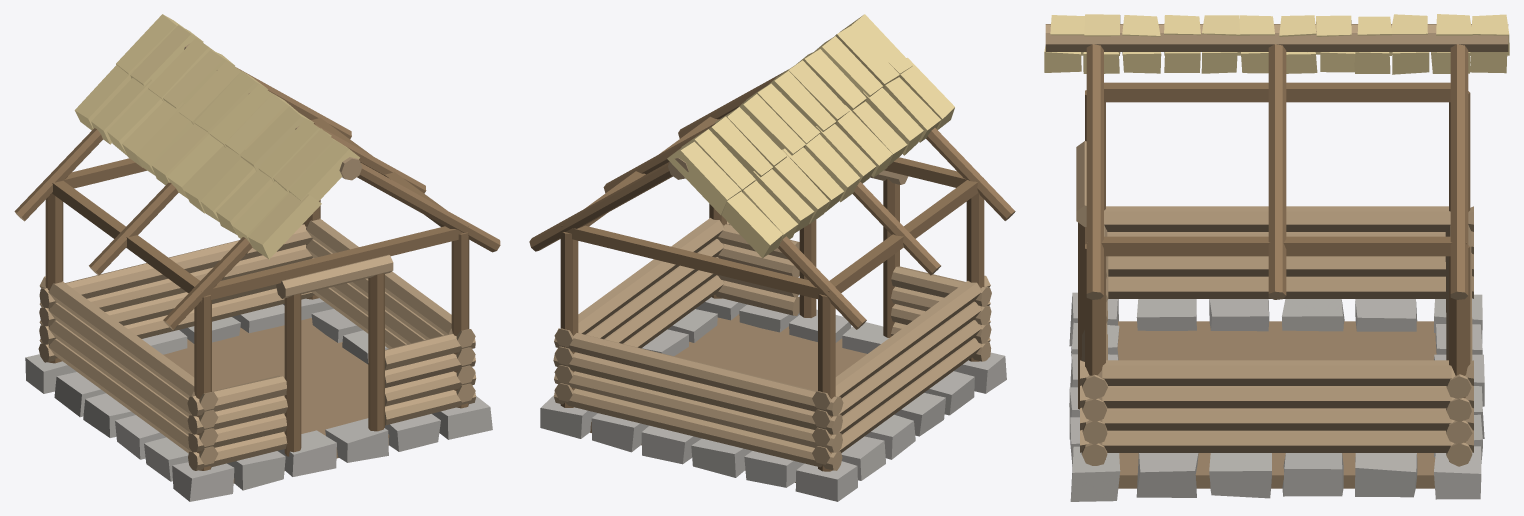
Rendered from building_granary_half.glb.
3 views of the same model, side by side, from view 1: azimuth 30°, elevation 25°; view 2: azimuth 150°, elevation 25°; view 3: azimuth 270°, elevation 25° (orthographic). The views are drawn at different scales.
Parts seen in each view (by area): view 1: building_granary_half; view 2: building_granary_half; view 3: building_granary_half.
Part boxes in pixels (x1,y1,x2,y2): building_granary_half: (14, 14, 500, 501); building_granary_half: (529, 14, 1015, 501); building_granary_half: (1044, 14, 1509, 501).
Bounding box in the file's own units: 3.85 × 3.56 × 3.78.
